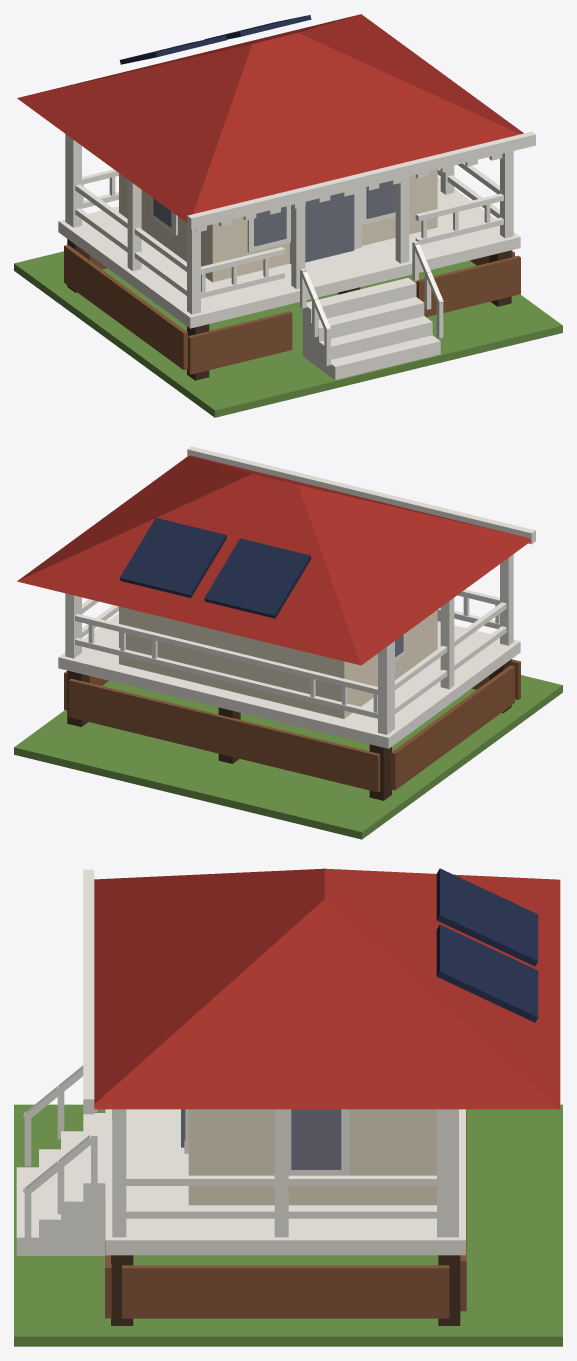
Rendered from house-1x1-1f-queenslander-a-solar.glb.
The picture shows the model from 3 angles, top to bottom: view 1: azimuth 30°, elevation 25°; view 2: azimuth 150°, elevation 25°; view 3: azimuth 270°, elevation 25°; orthographic projection. The views are drawn at different scales.
Parts seen in each view (by area): view 1: house-1x1-1f-queenslander-a-solar; view 2: house-1x1-1f-queenslander-a-solar; view 3: house-1x1-1f-queenslander-a-solar.
Part boxes in pixels (x1,y1,x2,y2): house-1x1-1f-queenslander-a-solar: (14, 14, 562, 417); house-1x1-1f-queenslander-a-solar: (14, 446, 562, 839); house-1x1-1f-queenslander-a-solar: (14, 868, 562, 1346).
Bounding box in the file's own units: 0.99 × 0.69 × 0.99.
1 material, 1 textured.
